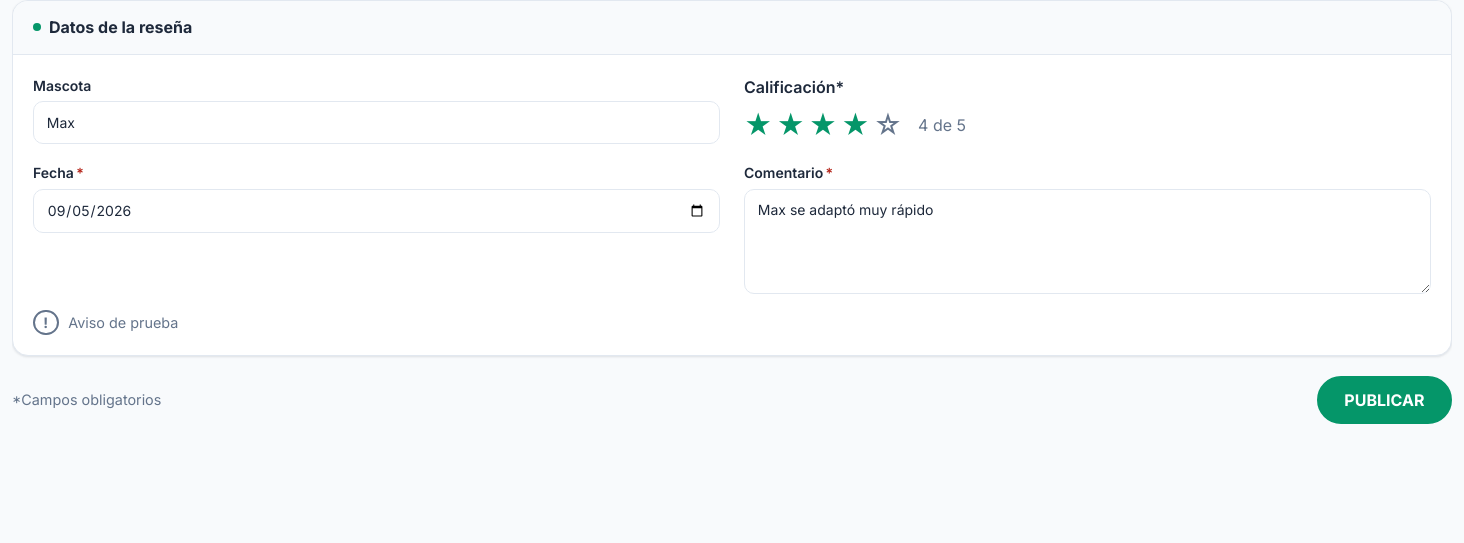
ReviewForm › disables saving and shows progress while the request is in progress
Click the button "Publicar" at [1384, 400], box [1317, 376, 1452, 424]
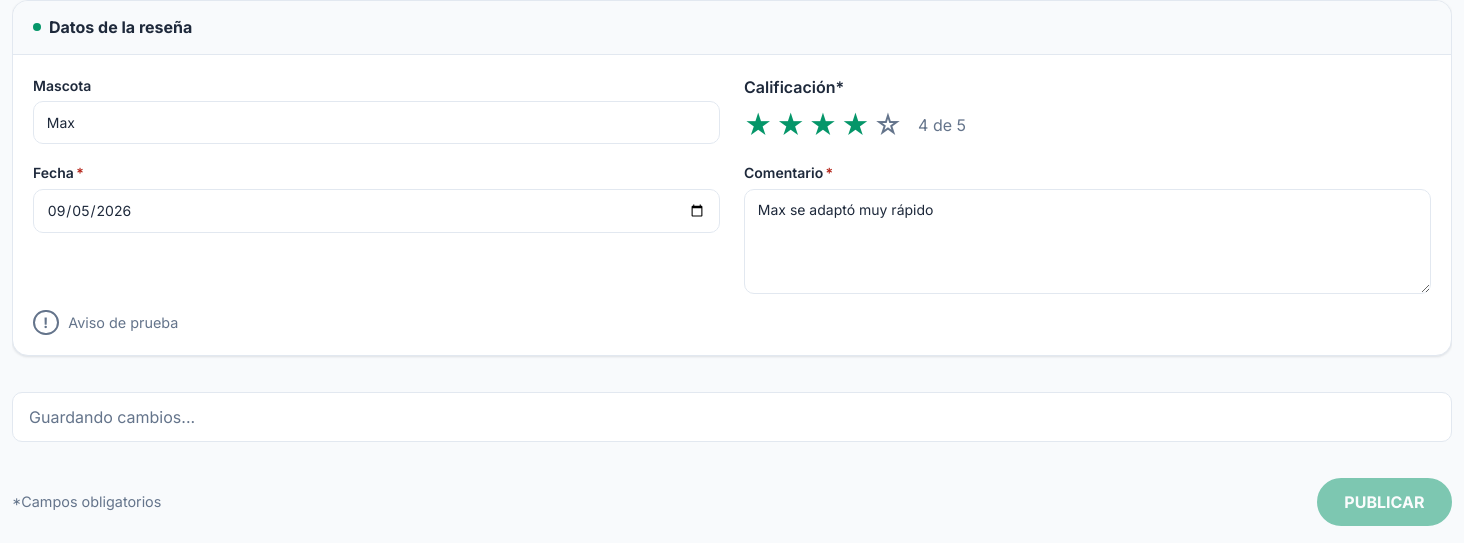
Expected: the text "Guardando cambios..." is shown, [29, 405, 195, 429]
Expected: the button "Publicar" is disabled, [1317, 478, 1452, 526]
